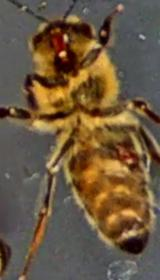varroa_mite: (107, 132, 156, 178)
